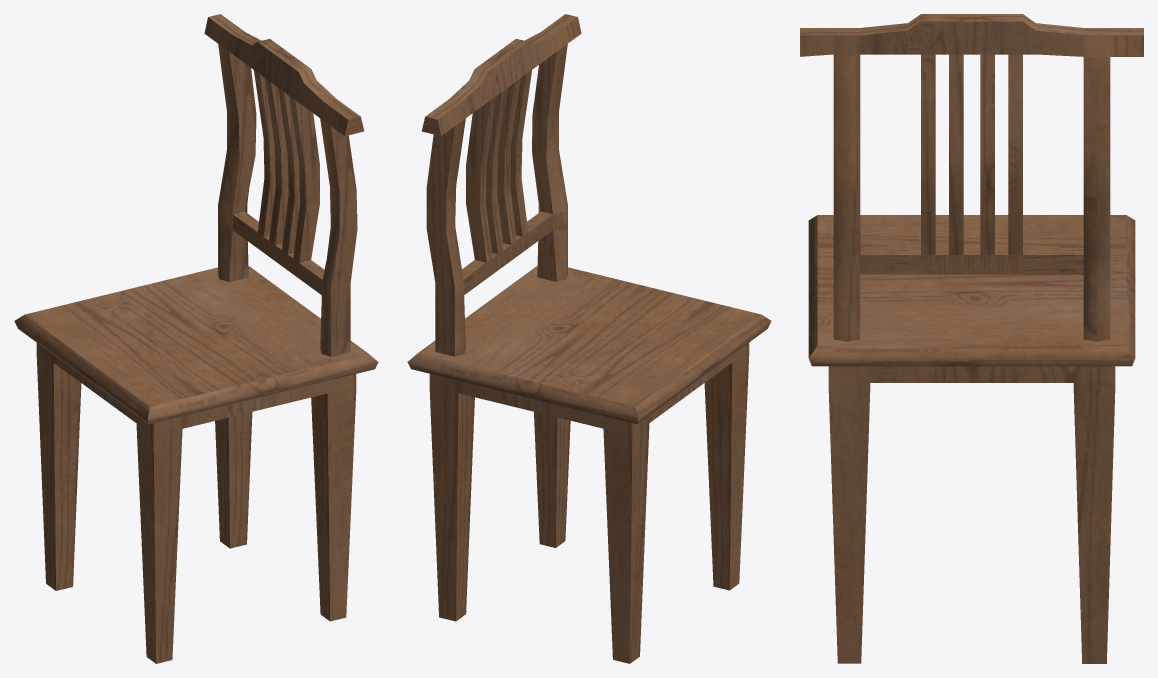
The model's file is DiningChair.fbx.
The picture shows the model from 3 angles, left to right: view 1: azimuth 30°, elevation 25°; view 2: azimuth 150°, elevation 25°; view 3: azimuth 270°, elevation 25°; orthographic projection. The views are drawn at different scales.
Visible parts, largest first — view 1: Chair2; view 2: Chair2; view 3: Chair2.
Part boxes in pixels (x1=…): Chair2: x1=14, y1=14, x2=378, y2=663; Chair2: x1=407, y1=14, x2=771, y2=663; Chair2: x1=800, y1=14, x2=1143, y2=663.
Bounding box in the file's own units: 0.6126 × 1.33 × 0.6445.
